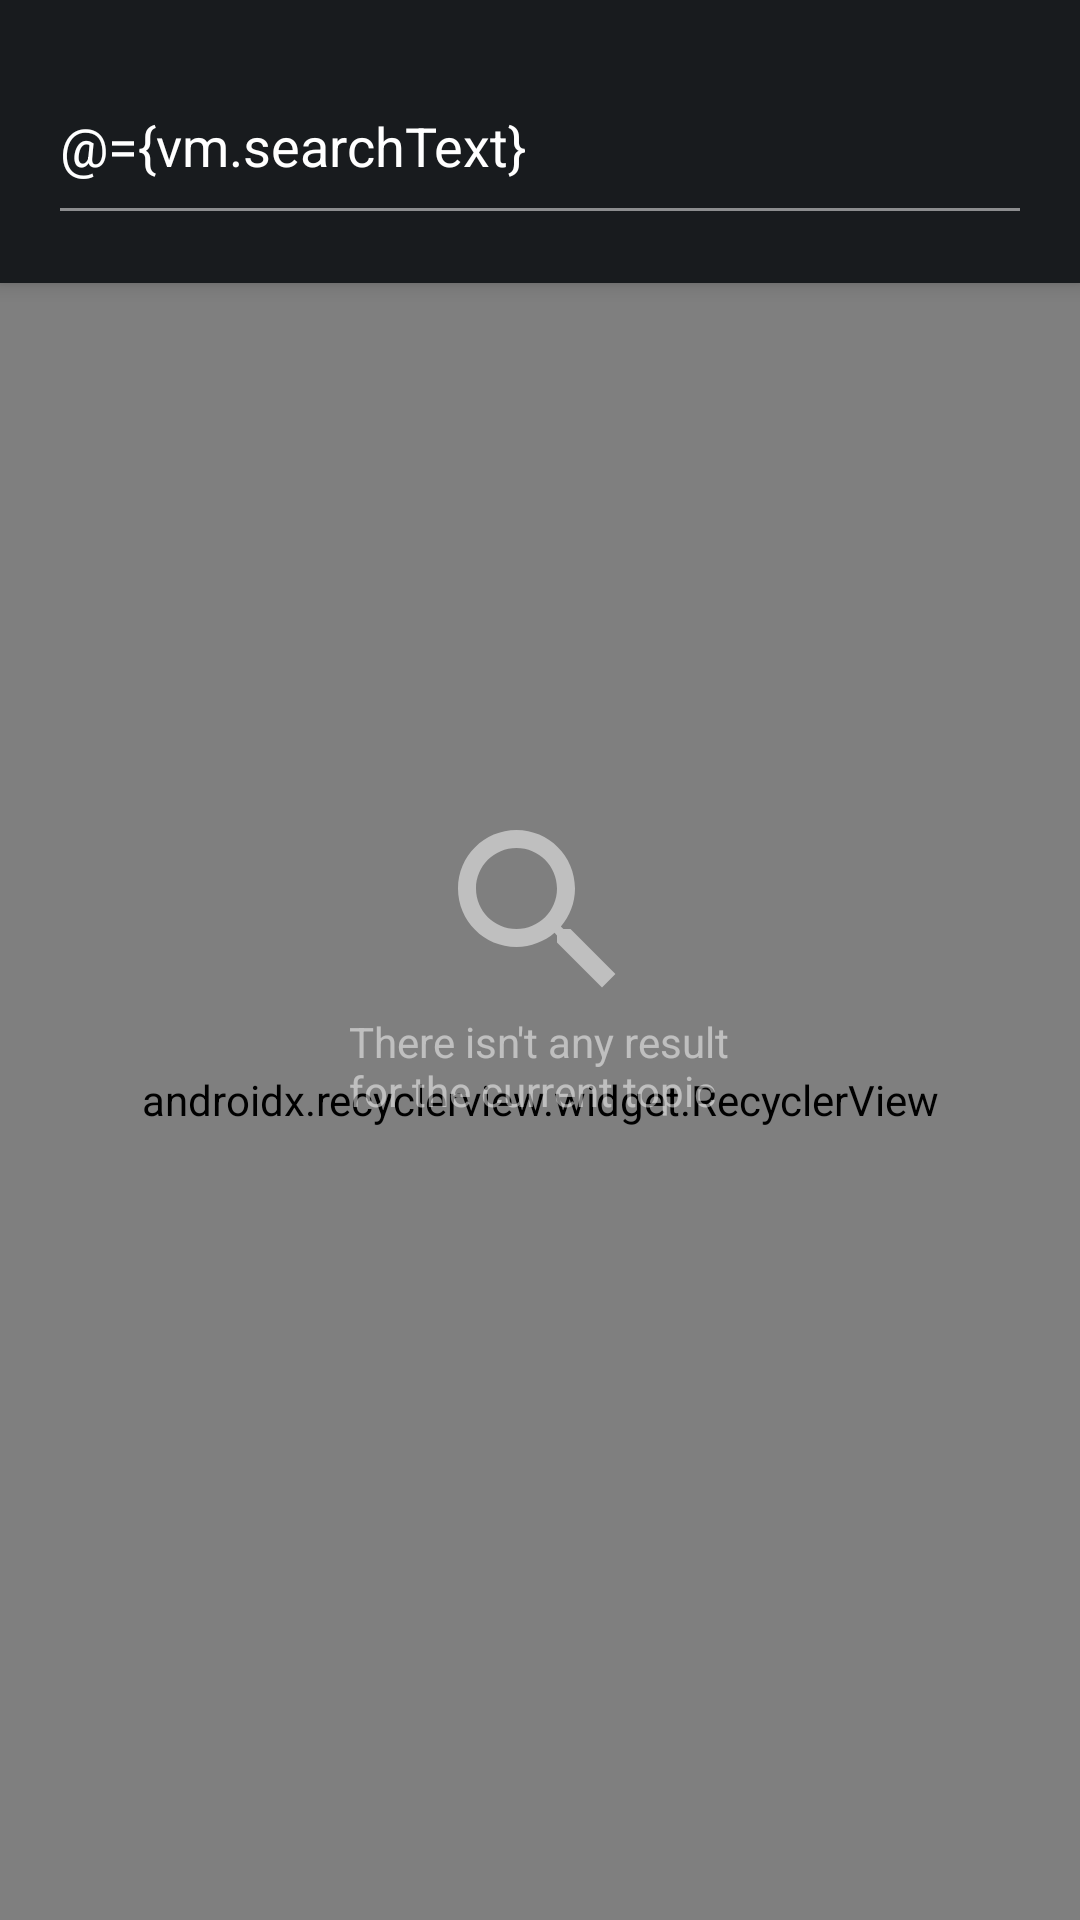

Named icons in this screenshot (1080px x 1920px) and their bounding boxes, [x1=x1, y1=y1, x2=x2, y2=y2]:
search: [x1=458, y1=830, x2=615, y2=987]
